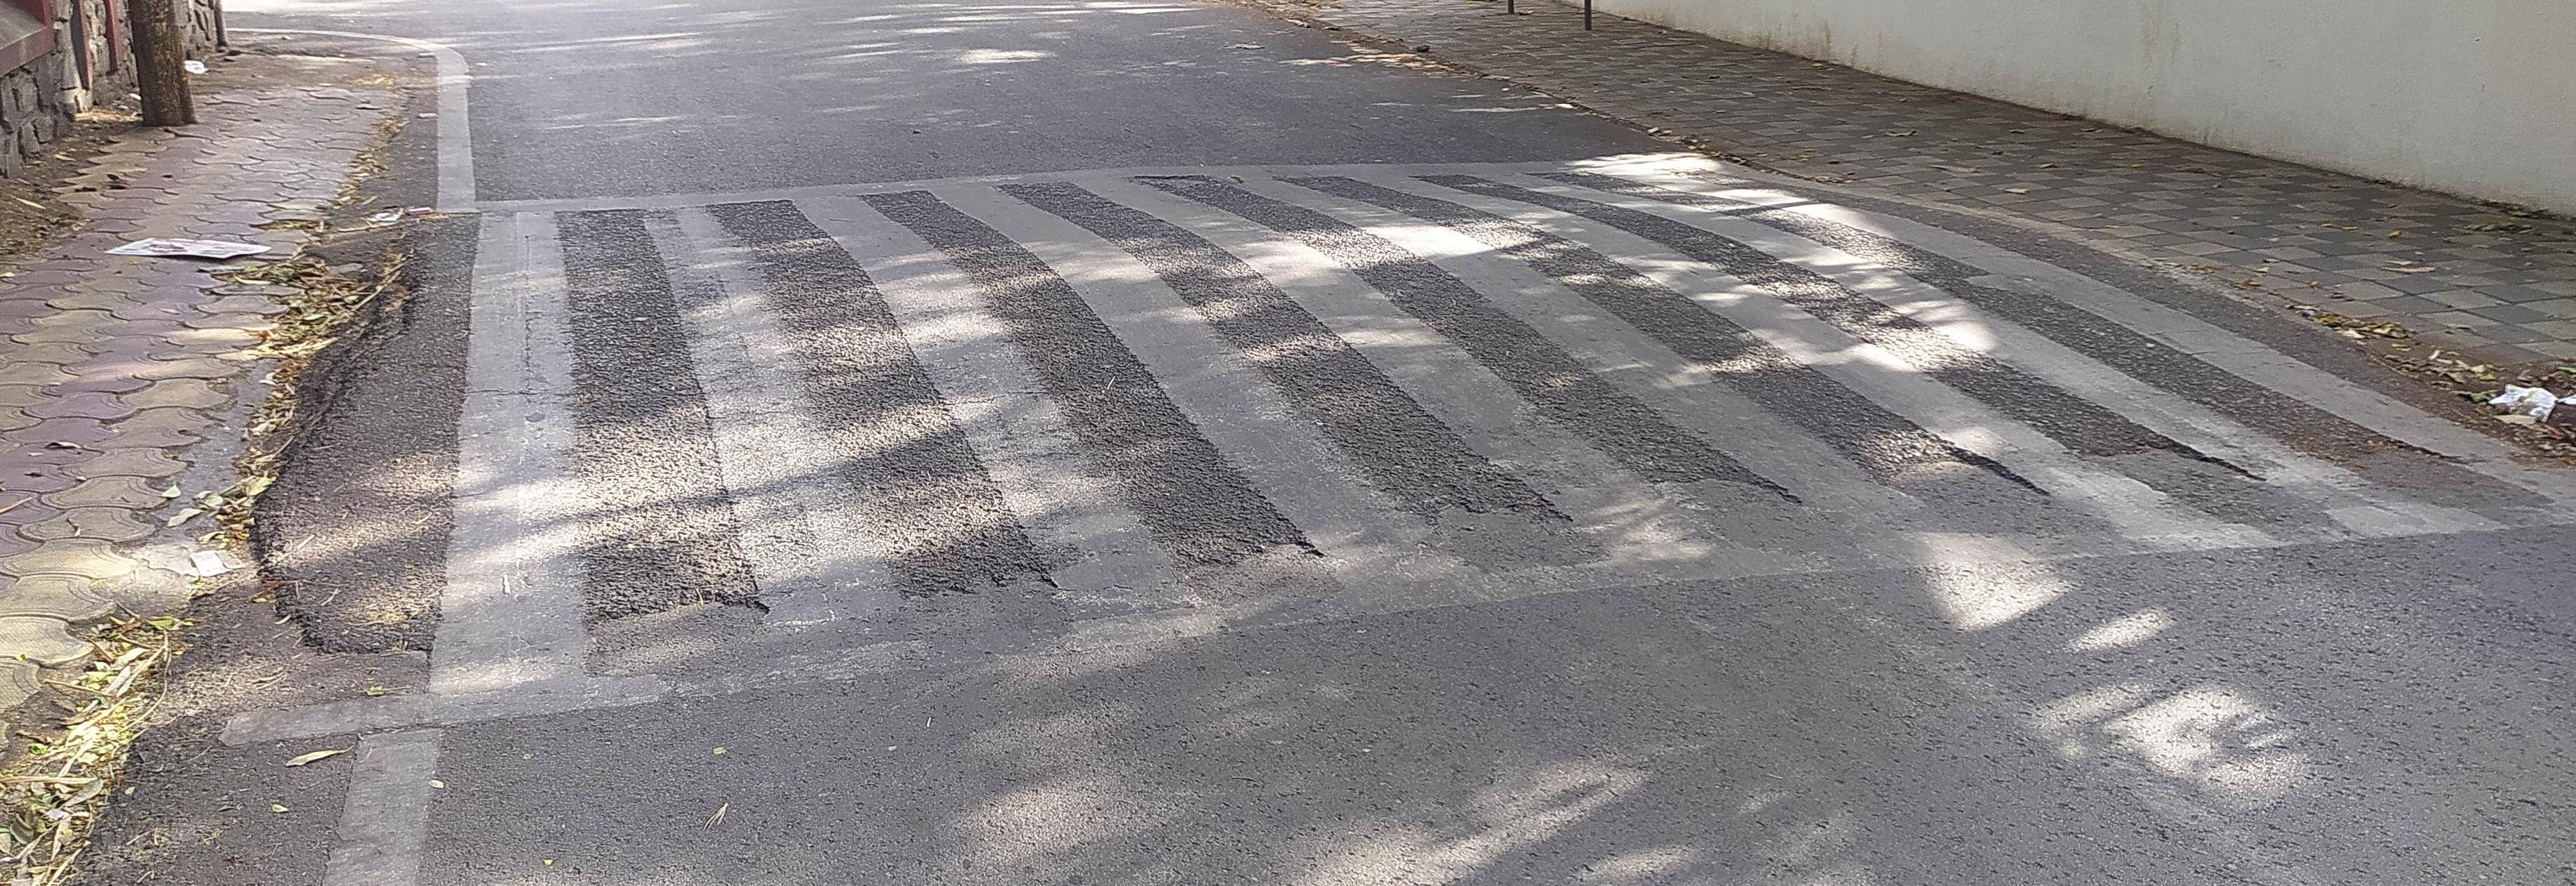speed-bump: (253, 145, 2533, 644)
